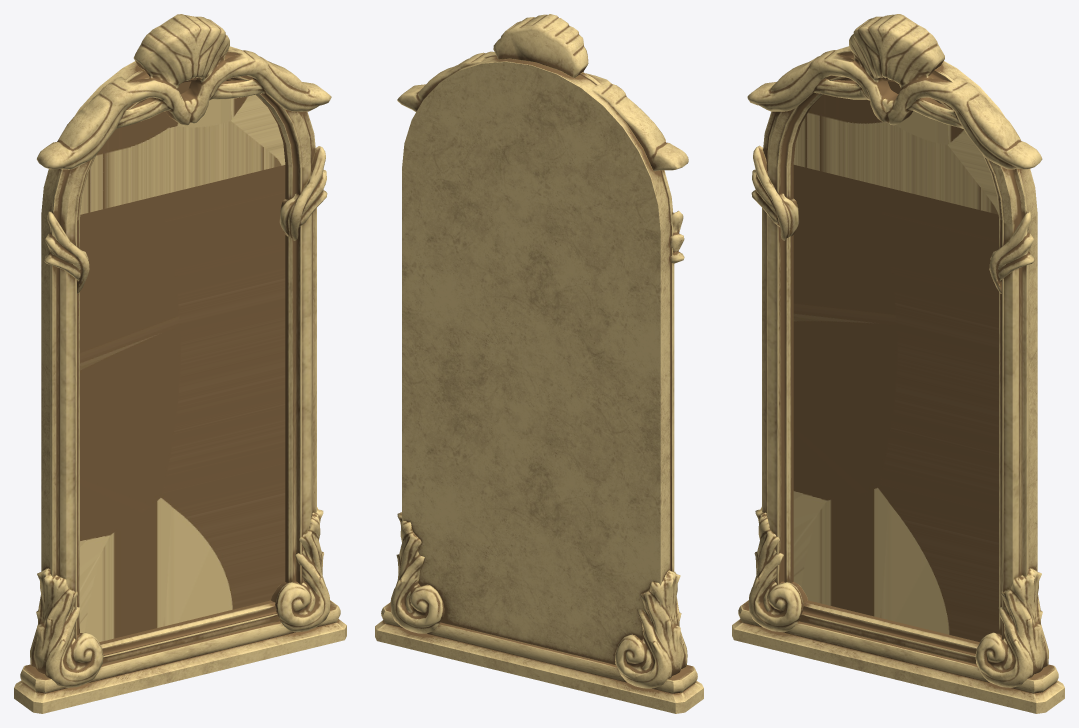
File: Mirror.fbx
3 renders of one model, left to right at view 1: azimuth 30°, elevation 25°; view 2: azimuth 150°, elevation 25°; view 3: azimuth 330°, elevation 25°, orthographic.
Visible parts, largest first — view 1: defaultMaterial.004, defaultMaterial.005, defaultMaterial.002, defaultMaterial.003, defaultMaterial, defaultMaterial.001; view 2: defaultMaterial.005, defaultMaterial.003, defaultMaterial, defaultMaterial.002, defaultMaterial.001; view 3: defaultMaterial.004, defaultMaterial.005, defaultMaterial.002, defaultMaterial.003, defaultMaterial, defaultMaterial.001.
Boxes of the visible parts, bbox=[...] form: defaultMaterial.004: bbox=[80, 81, 285, 642]; defaultMaterial.005: bbox=[41, 46, 316, 664]; defaultMaterial.002: bbox=[36, 14, 331, 169]; defaultMaterial.003: bbox=[14, 600, 346, 713]; defaultMaterial: bbox=[30, 507, 330, 687]; defaultMaterial.001: bbox=[44, 146, 327, 293]; defaultMaterial.005: bbox=[402, 53, 674, 664]; defaultMaterial.003: bbox=[375, 602, 703, 713]; defaultMaterial: bbox=[390, 512, 687, 688]; defaultMaterial.002: bbox=[397, 14, 688, 171]; defaultMaterial.001: bbox=[670, 210, 684, 263]; defaultMaterial.004: bbox=[793, 81, 998, 642]; defaultMaterial.005: bbox=[762, 46, 1037, 664]; defaultMaterial.002: bbox=[747, 14, 1042, 169]; defaultMaterial.003: bbox=[732, 600, 1064, 713]; defaultMaterial: bbox=[748, 507, 1048, 687]; defaultMaterial.001: bbox=[751, 145, 1034, 293].
Size of the model in its own units: 44.2 by 257 by 510.
2 materials, 2 textured.
